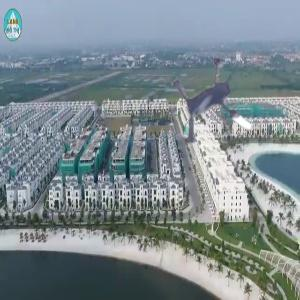drone: (153, 47, 280, 174)
